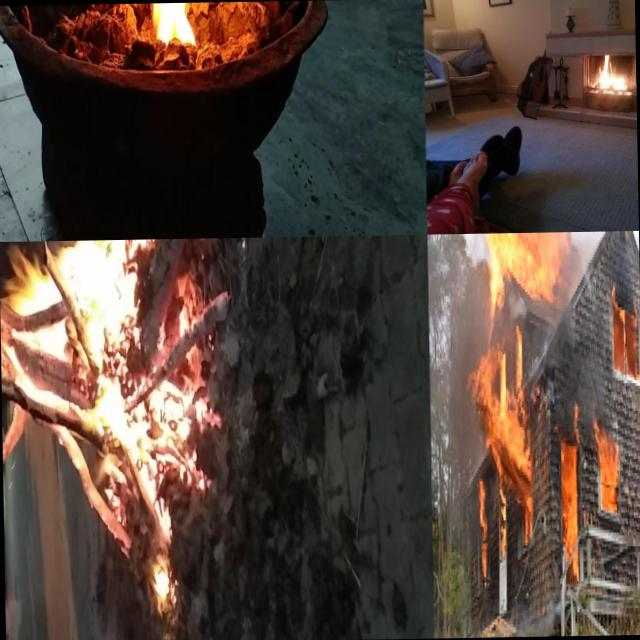fire: (0, 261, 191, 640), (476, 342, 534, 536), (482, 232, 572, 312), (124, 2, 219, 66), (556, 432, 580, 586), (590, 400, 619, 518), (610, 290, 640, 382), (593, 56, 630, 94), (478, 485, 491, 585)
smoke: (429, 340, 471, 638), (427, 233, 485, 340), (508, 586, 556, 636)
